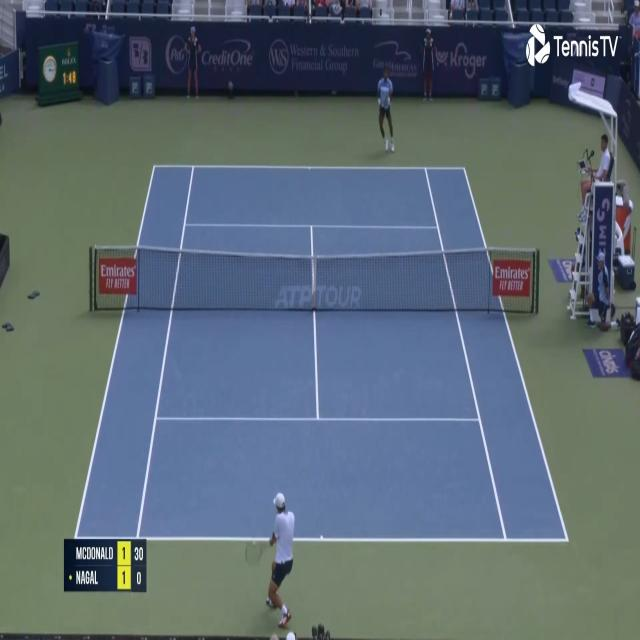tennis-player: (263, 488, 297, 633), (376, 60, 396, 156)
